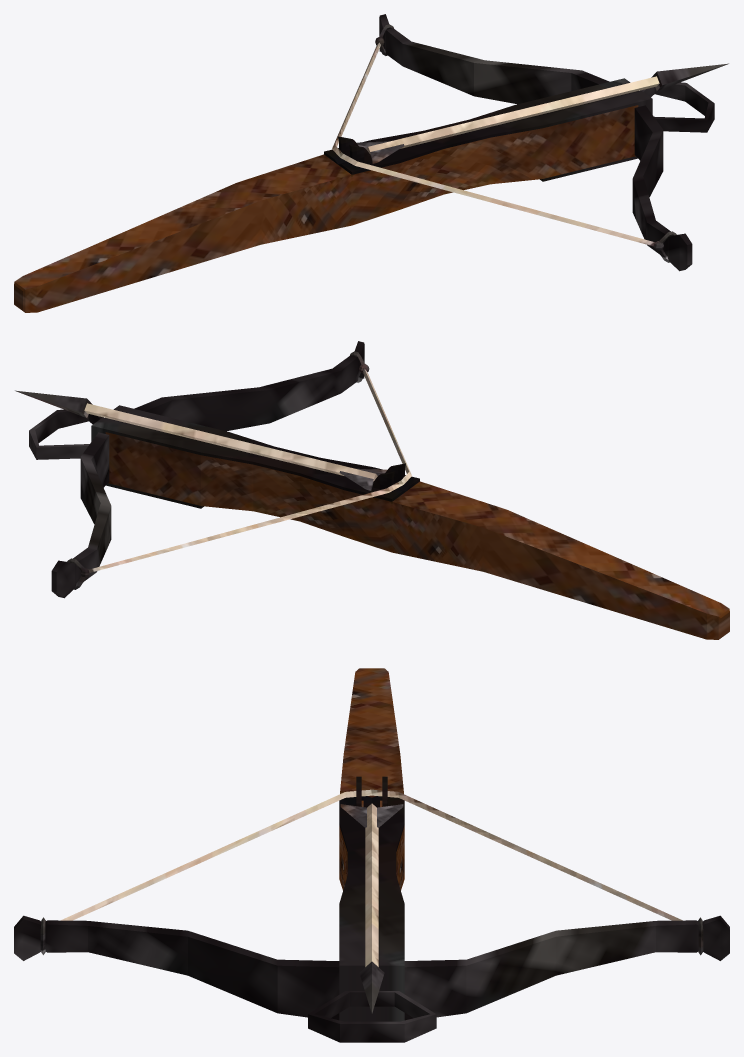
File: CrossbowFin.fbx
3 renders of one model, top to bottom at view 1: azimuth 30°, elevation 25°; view 2: azimuth 150°, elevation 25°; view 3: azimuth 270°, elevation 25°, orthographic. The views are drawn at different scales.
Visible parts, largest first — view 1: crossbow; view 2: crossbow; view 3: crossbow.
Boxes of the visible parts, x1=… form: crossbow: x1=14, y1=14, x2=728, y2=312; crossbow: x1=15, y1=341, x2=729, y2=639; crossbow: x1=14, y1=668, x2=729, y2=1042.
Size of the model in its own units: 563 by 67.54 by 422.
1 material, 1 textured.
